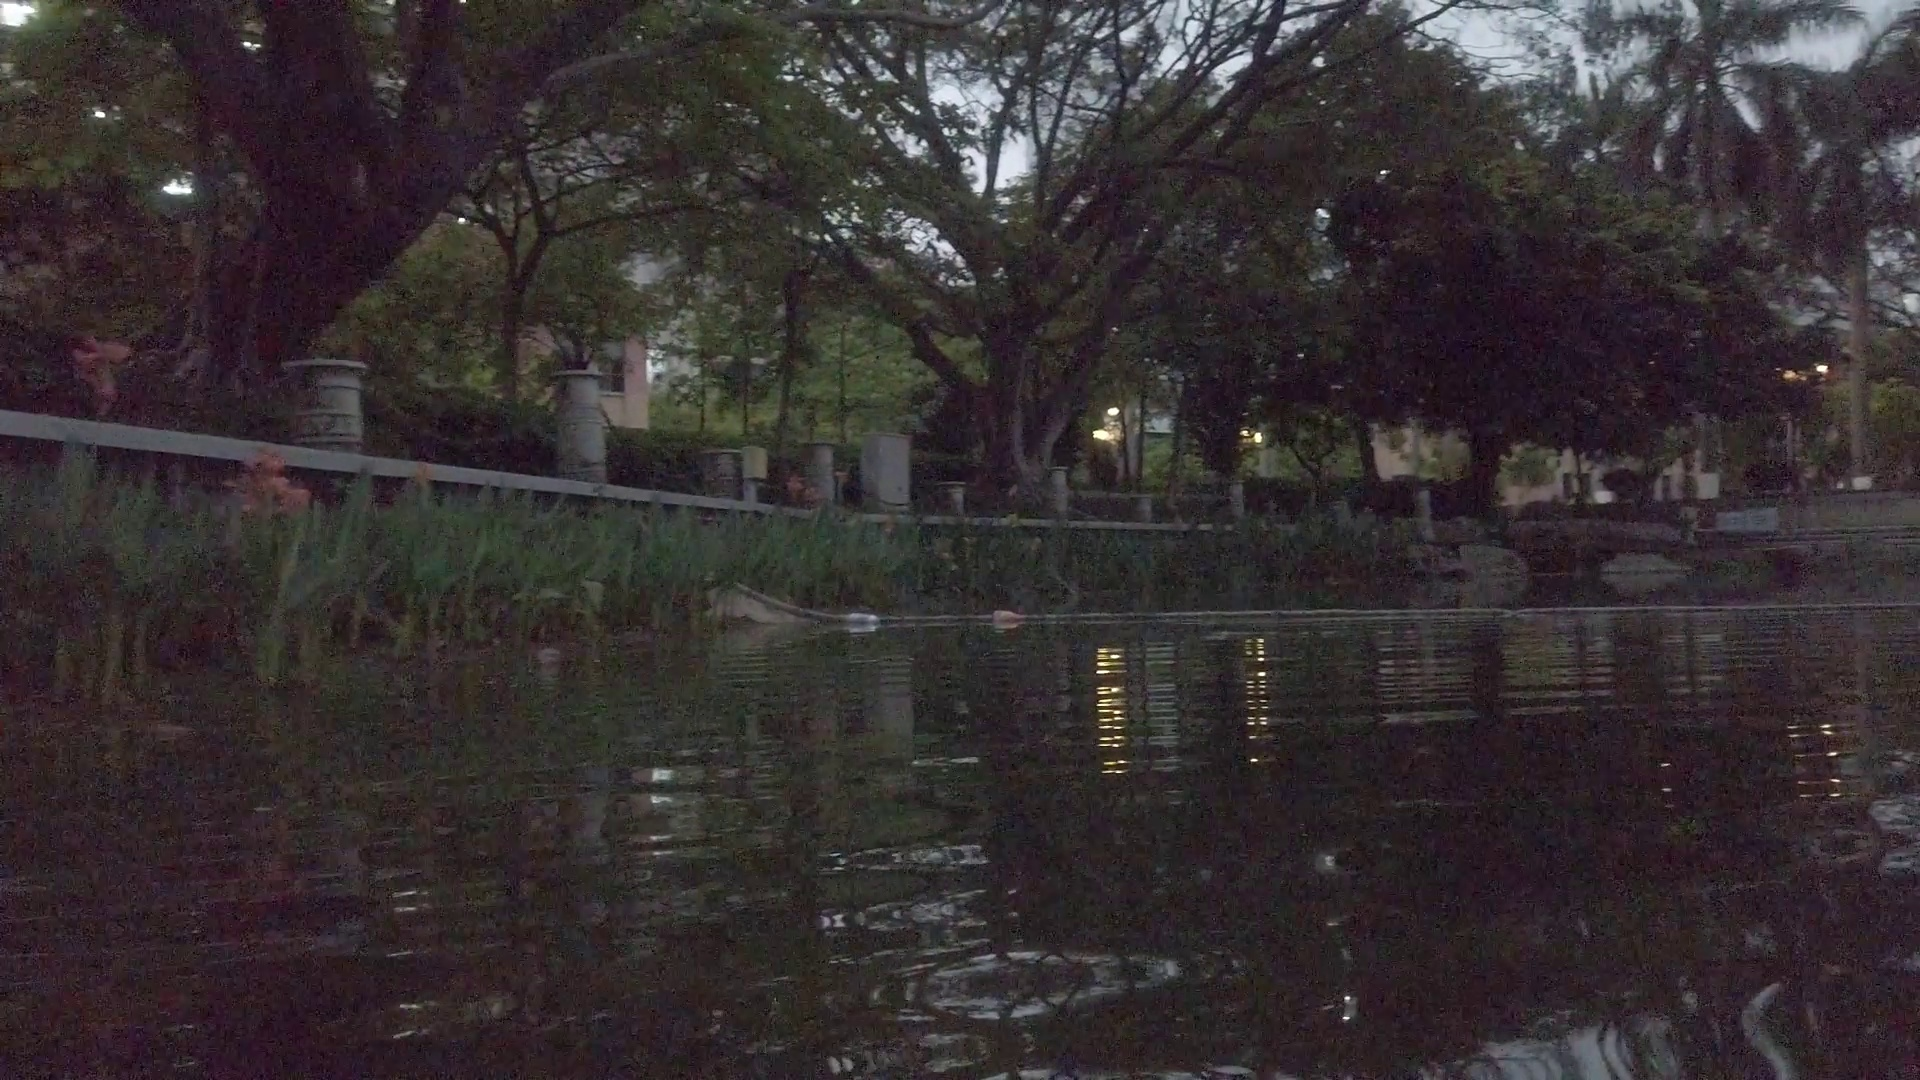bottle: (847, 611, 881, 624), (993, 611, 1029, 621)
